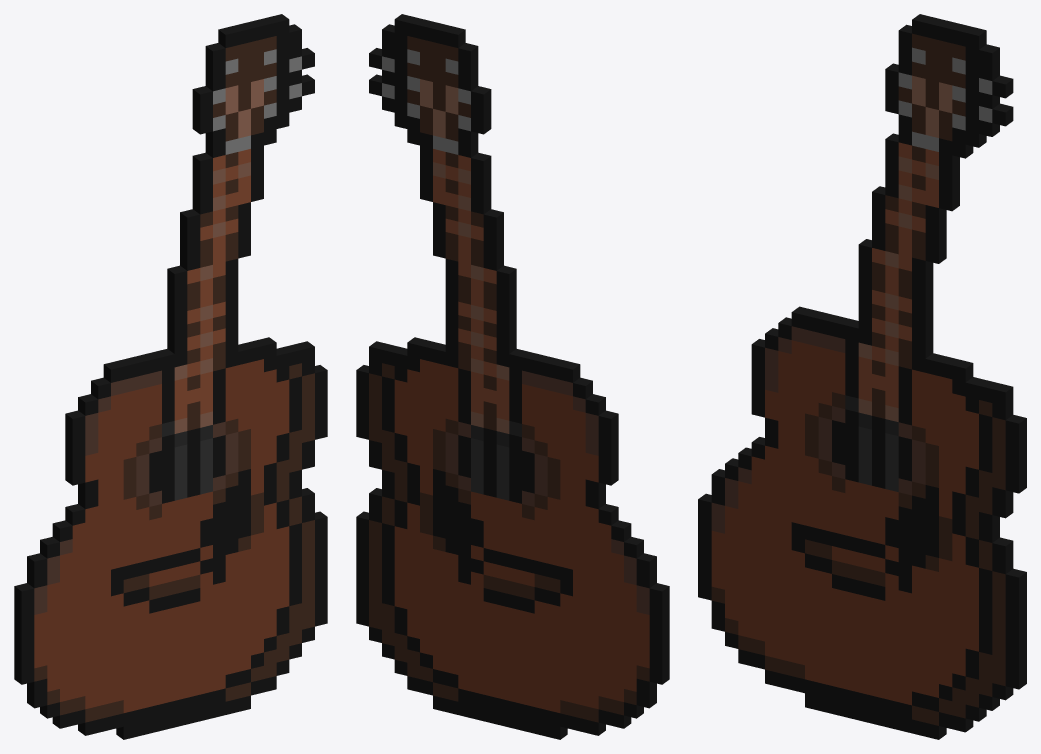
File: guitarra_ellie_the_last_of_us.glb
3 renders of one model, left to right at view 1: azimuth 30°, elevation 25°; view 2: azimuth 150°, elevation 25°; view 3: azimuth 330°, elevation 25°, orthographic. The views are drawn at different scales.
Parts seen in each view (by area): view 1: defaultobject; view 2: defaultobject; view 3: defaultobject.
Part boxes in pixels (x1,y1,x2,y2): defaultobject: [14, 14, 327, 739]; defaultobject: [356, 14, 669, 739]; defaultobject: [698, 14, 1026, 739].
Bounding box in the file's own units: 2.4 × 5.1 × 0.1.
1 material, 1 textured.
